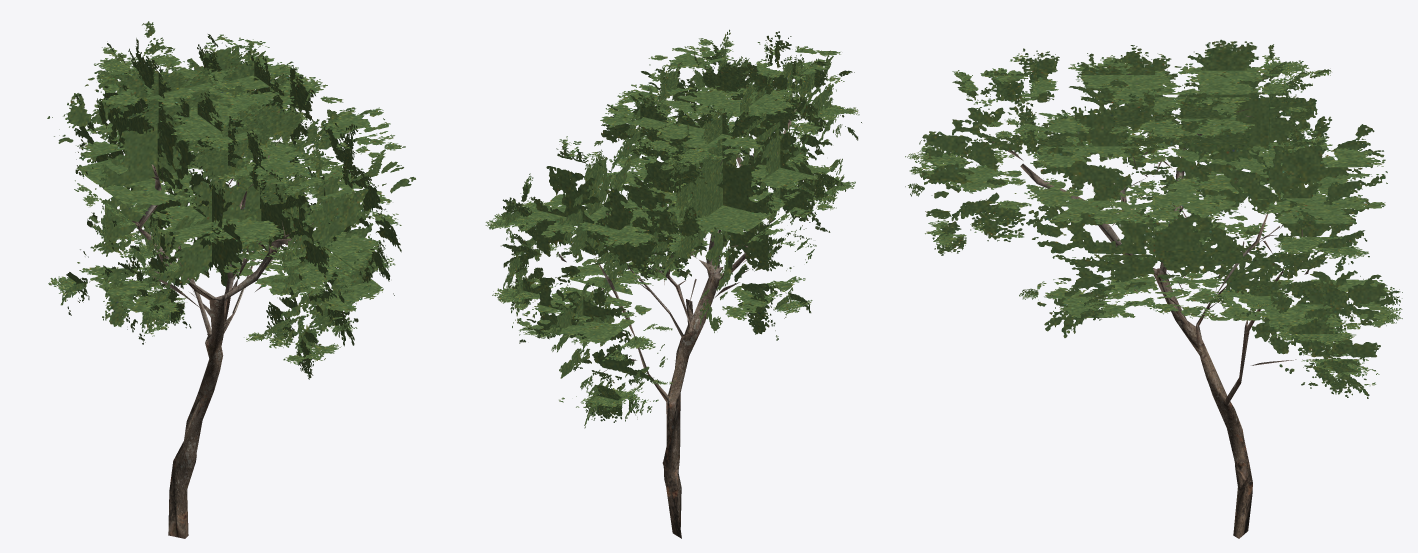
3 views of the same model, side by side, from view 1: azimuth 30°, elevation 25°; view 2: azimuth 150°, elevation 25°; view 3: azimuth 270°, elevation 25° (orthographic). The views are drawn at different scales.
Visible parts, largest first — view 1: tree_small_02_LOD0; view 2: tree_small_02_LOD0; view 3: tree_small_02_LOD0.
Boxes of the visible parts, box(x1,y1,x2,y2) form: tree_small_02_LOD0: box(47, 21, 415, 538); tree_small_02_LOD0: box(485, 29, 861, 538); tree_small_02_LOD0: box(905, 39, 1402, 538).
Bounding box in the file's own units: 2.94 × 4.56 × 4.31.
3 materials, 3 textured.
